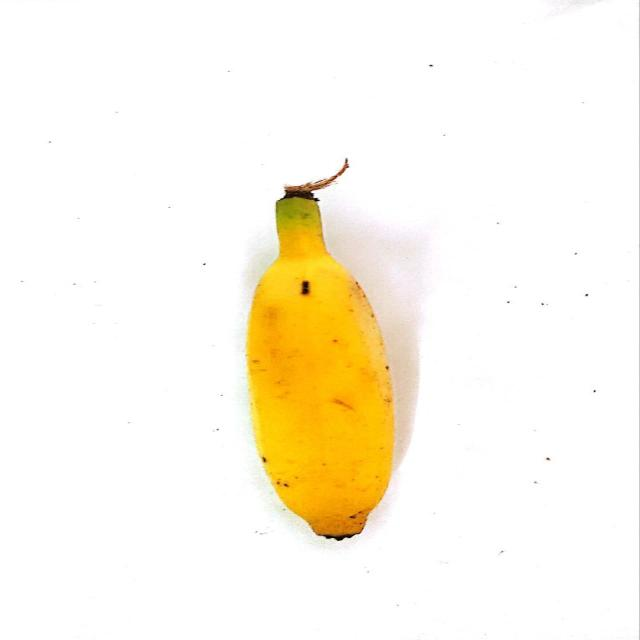fresh_banana: (249, 237, 393, 533)
